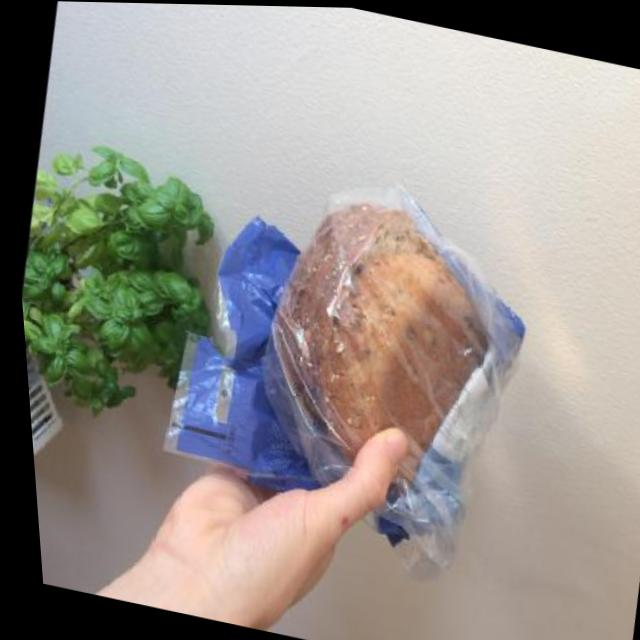other: (124, 135, 575, 594)
